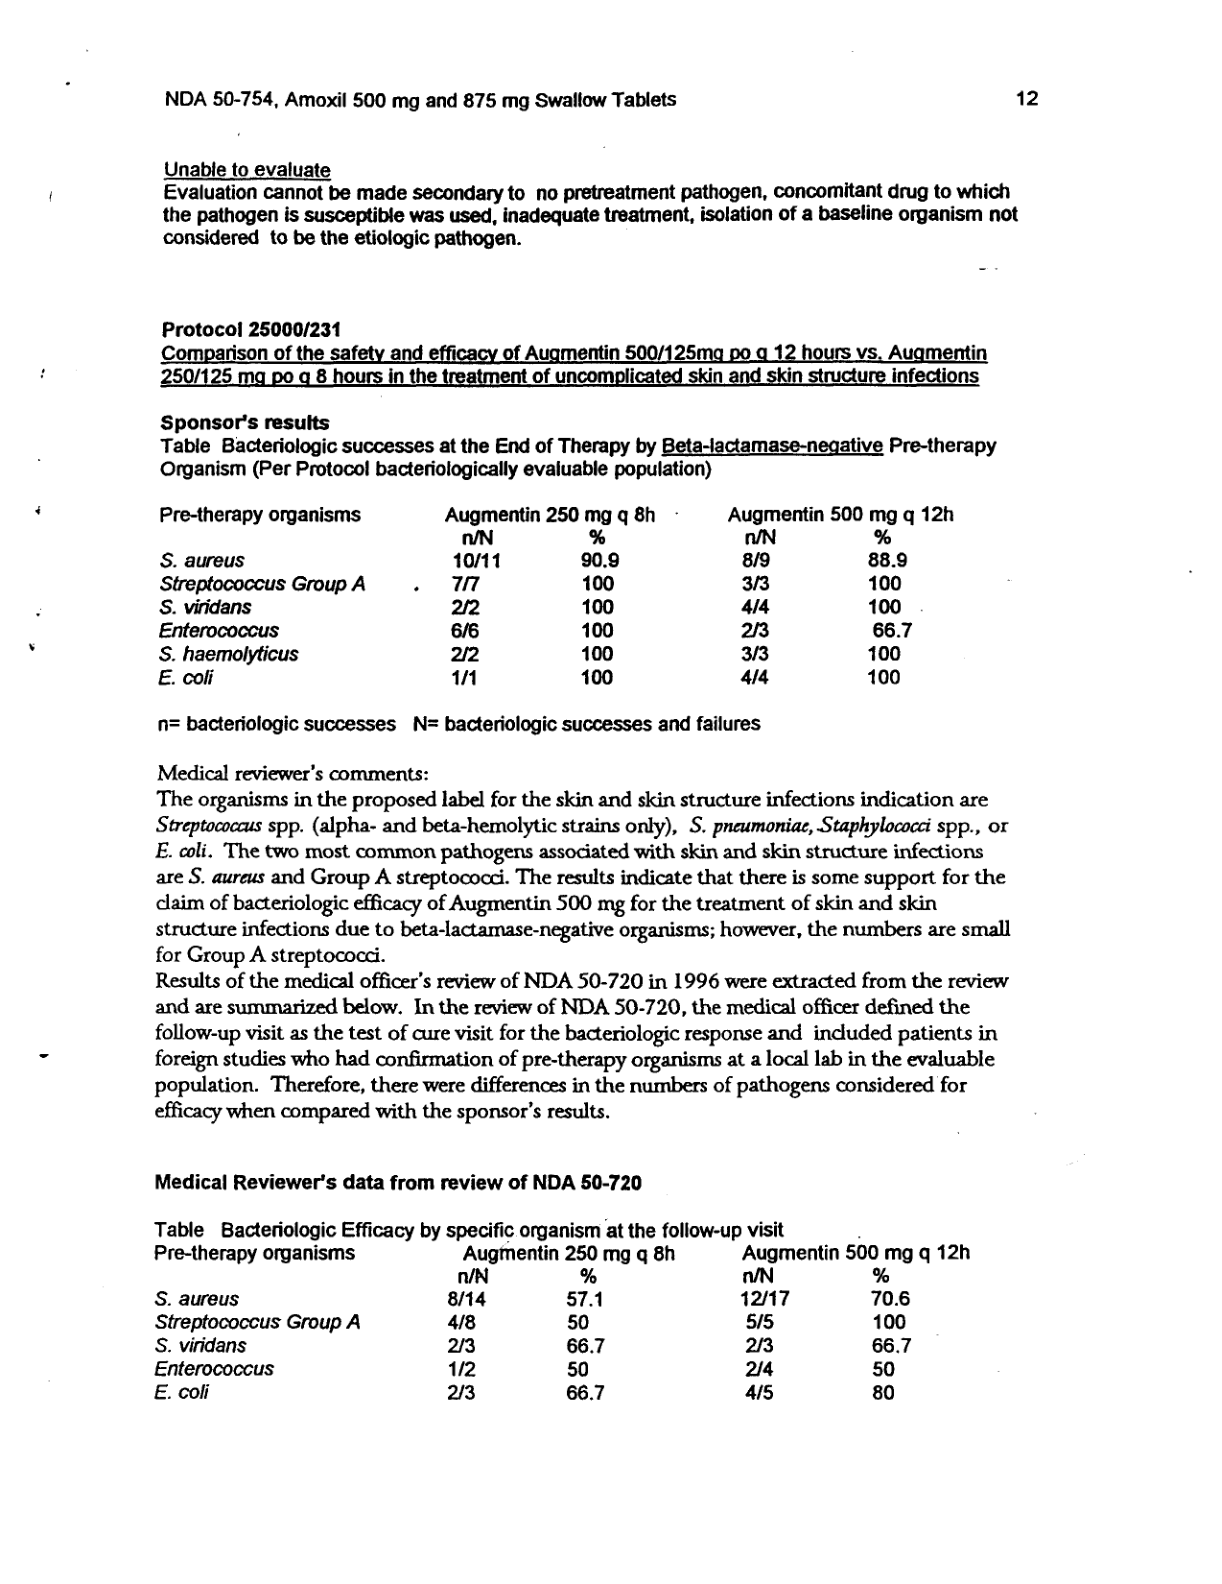nolines: (155, 503, 958, 691), (151, 1244, 973, 1403)
